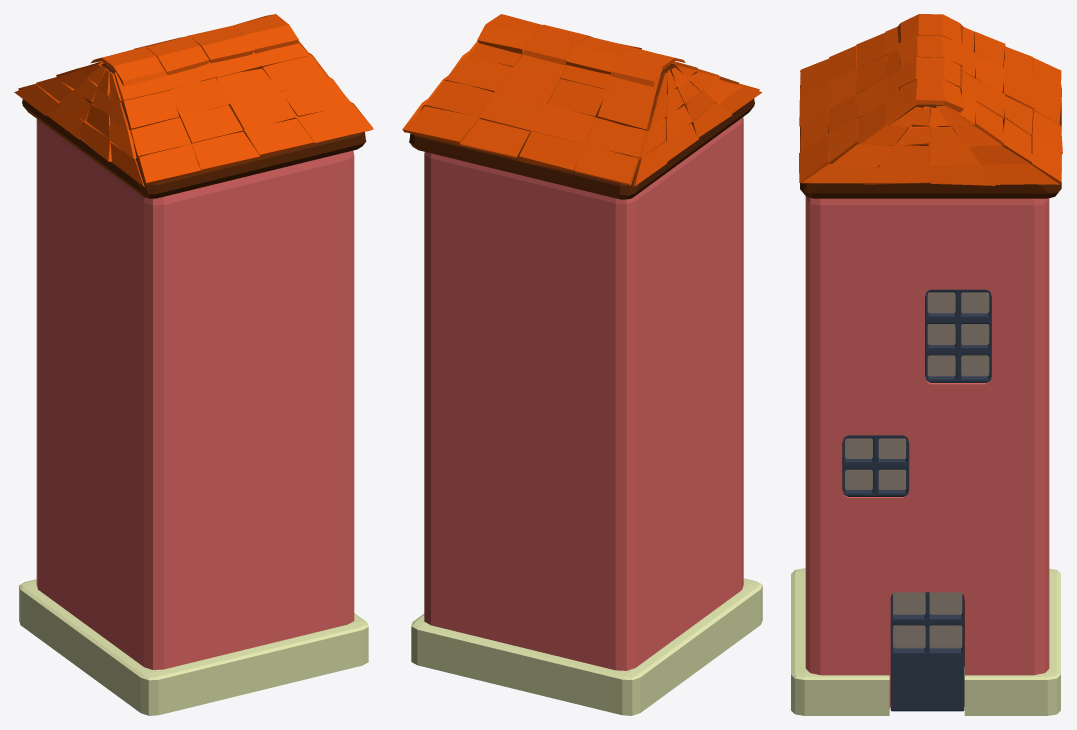
The model's file is House_02.fbx.
The picture shows the model from 3 angles, left to right: view 1: azimuth 30°, elevation 25°; view 2: azimuth 150°, elevation 25°; view 3: azimuth 270°, elevation 25°; orthographic projection.
Parts seen in each view (by area): view 1: house02; view 2: house02; view 3: house02.
Part boxes in pixels (box(x1,y1,x2,y2)): house02: box(14, 14, 373, 715); house02: box(402, 14, 762, 715); house02: box(791, 14, 1062, 715).
Bounding box in the file's own units: 434 × 1058 × 430.
